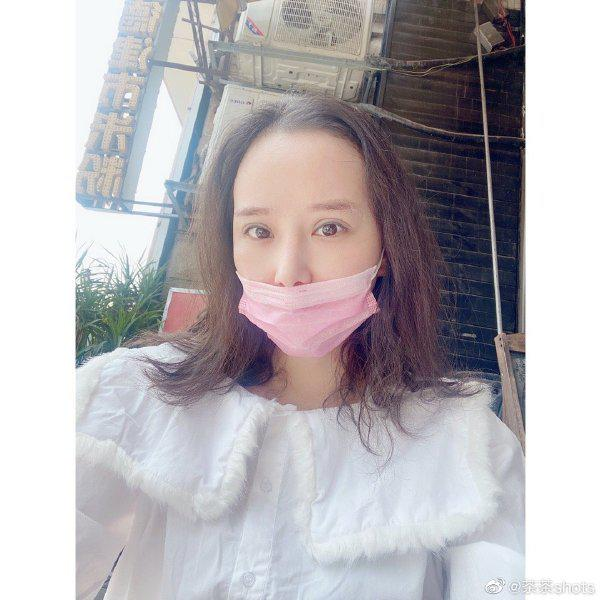WRONG: (233, 178, 376, 358)
